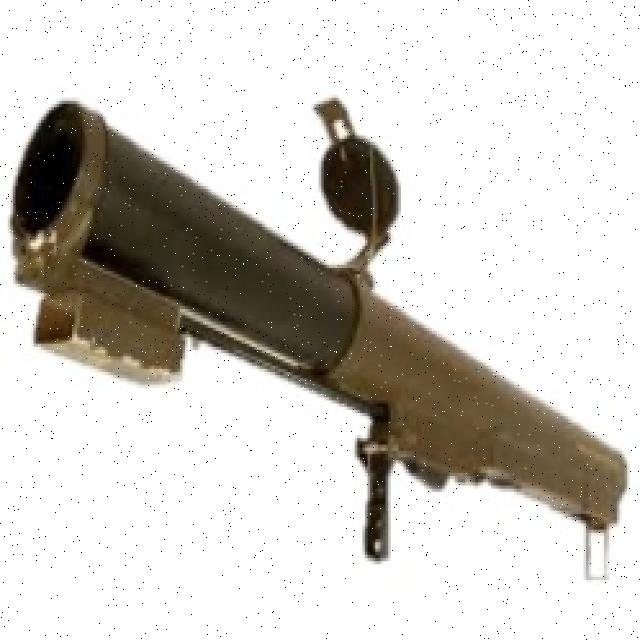bazooka: (4, 78, 633, 596)
